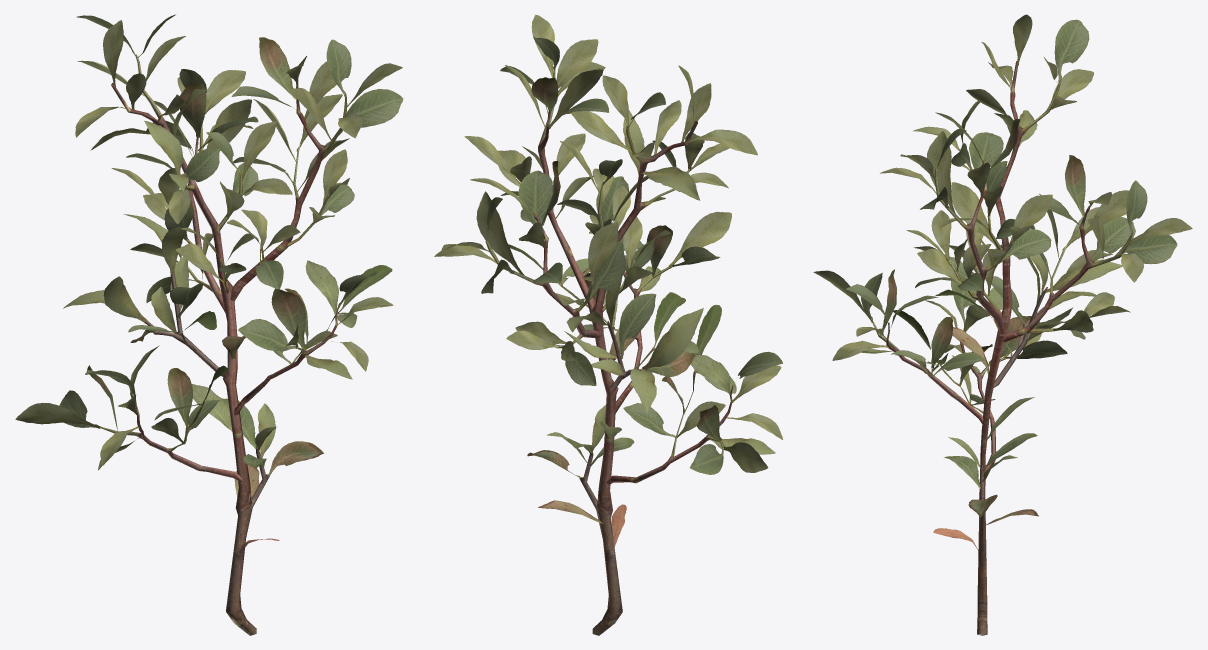
Rendered from shrub_04_c_LOD1.glb.
The picture shows the model from 3 angles, left to right: view 1: azimuth 30°, elevation 25°; view 2: azimuth 150°, elevation 25°; view 3: azimuth 270°, elevation 25°; orthographic projection. The views are drawn at different scales.
Visible parts, largest first — view 1: shrub_04_c_LOD1__lod0; view 2: shrub_04_c_LOD1__lod0; view 3: shrub_04_c_LOD1__lod0.
Part boxes in pixels (box(x1,y1,x2,y2)): shrub_04_c_LOD1__lod0: box(15, 14, 403, 635); shrub_04_c_LOD1__lod0: box(434, 14, 782, 635); shrub_04_c_LOD1__lod0: box(813, 14, 1192, 635).
Size of what is drawn, in the model's own units: 0.1561 by 0.2805 by 0.1685.
Materials: 1 (1 with a texture image).
